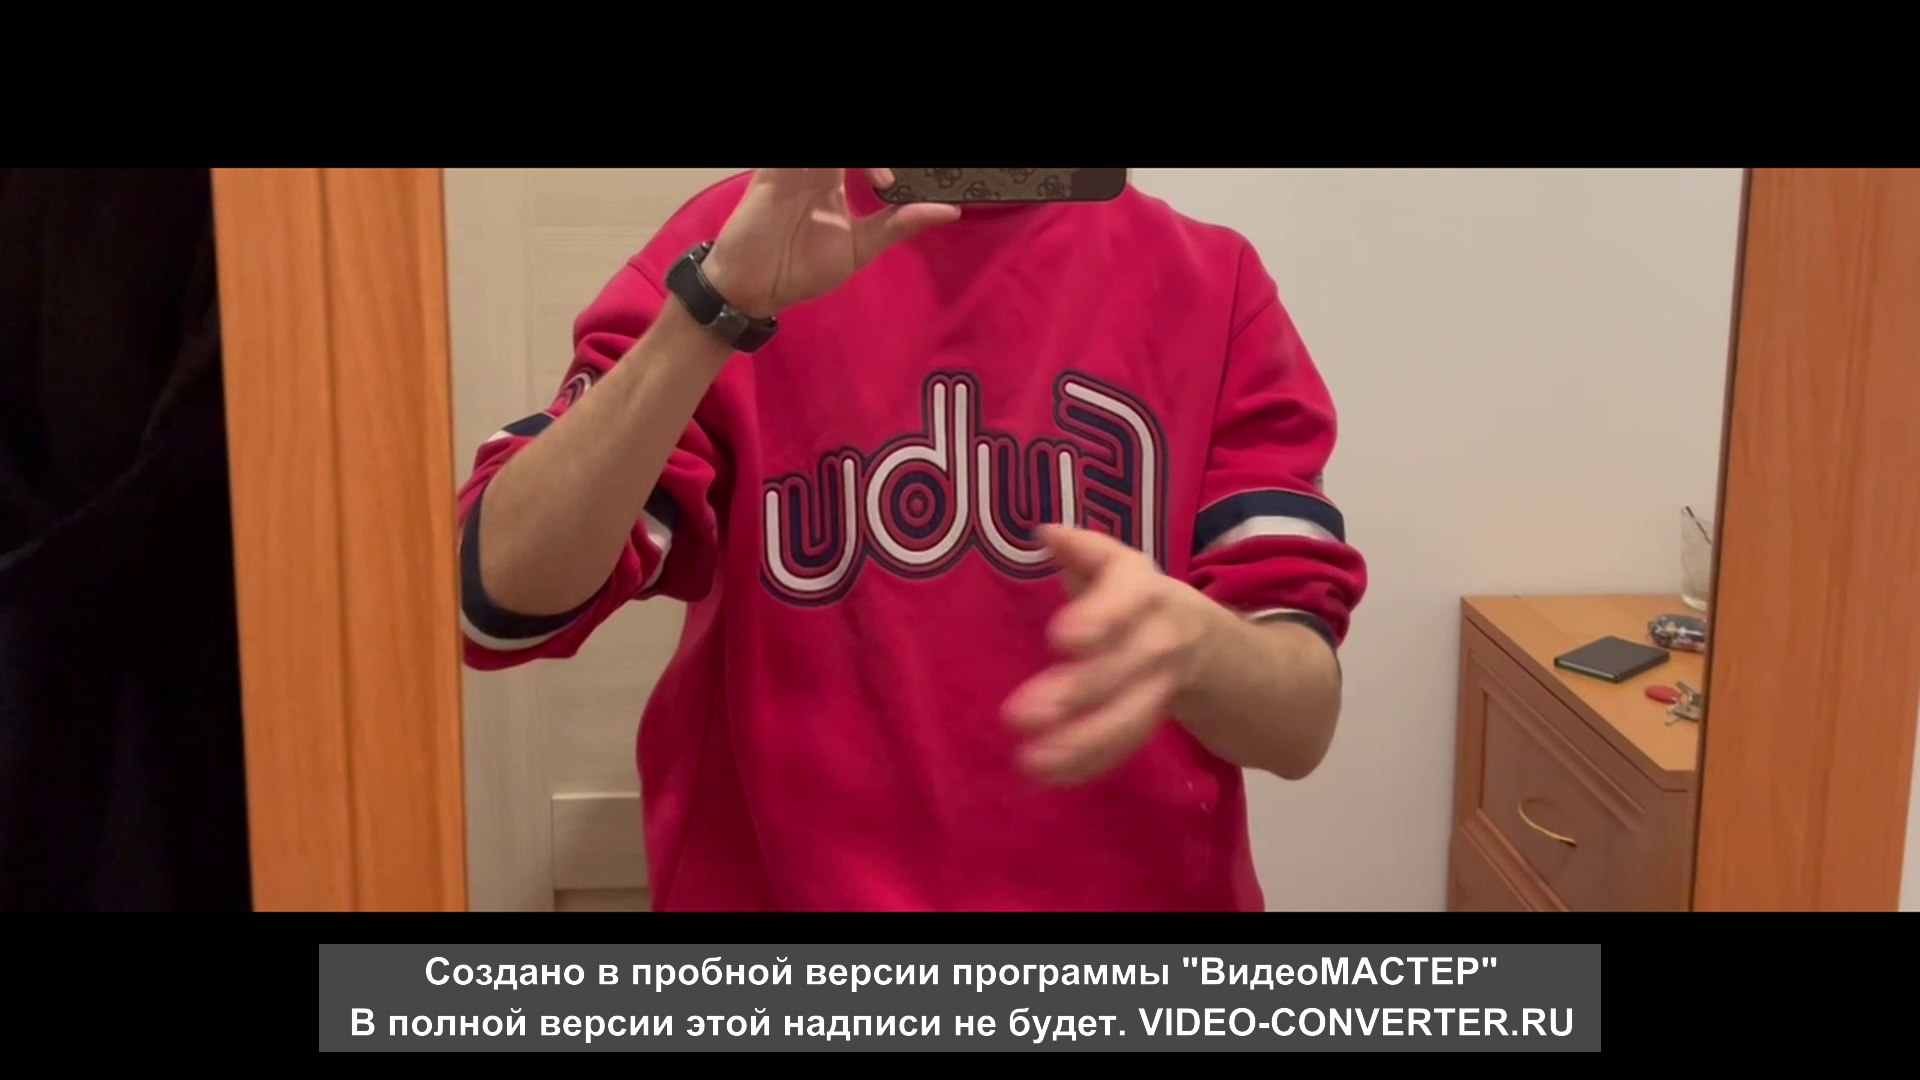Кисть: (997, 518, 1205, 791)
